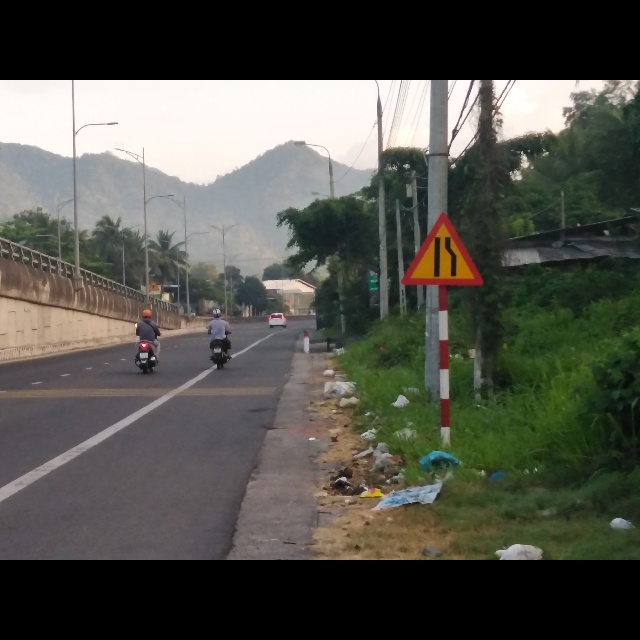Đường bị hẹp bên phải: (401, 210, 486, 287)
